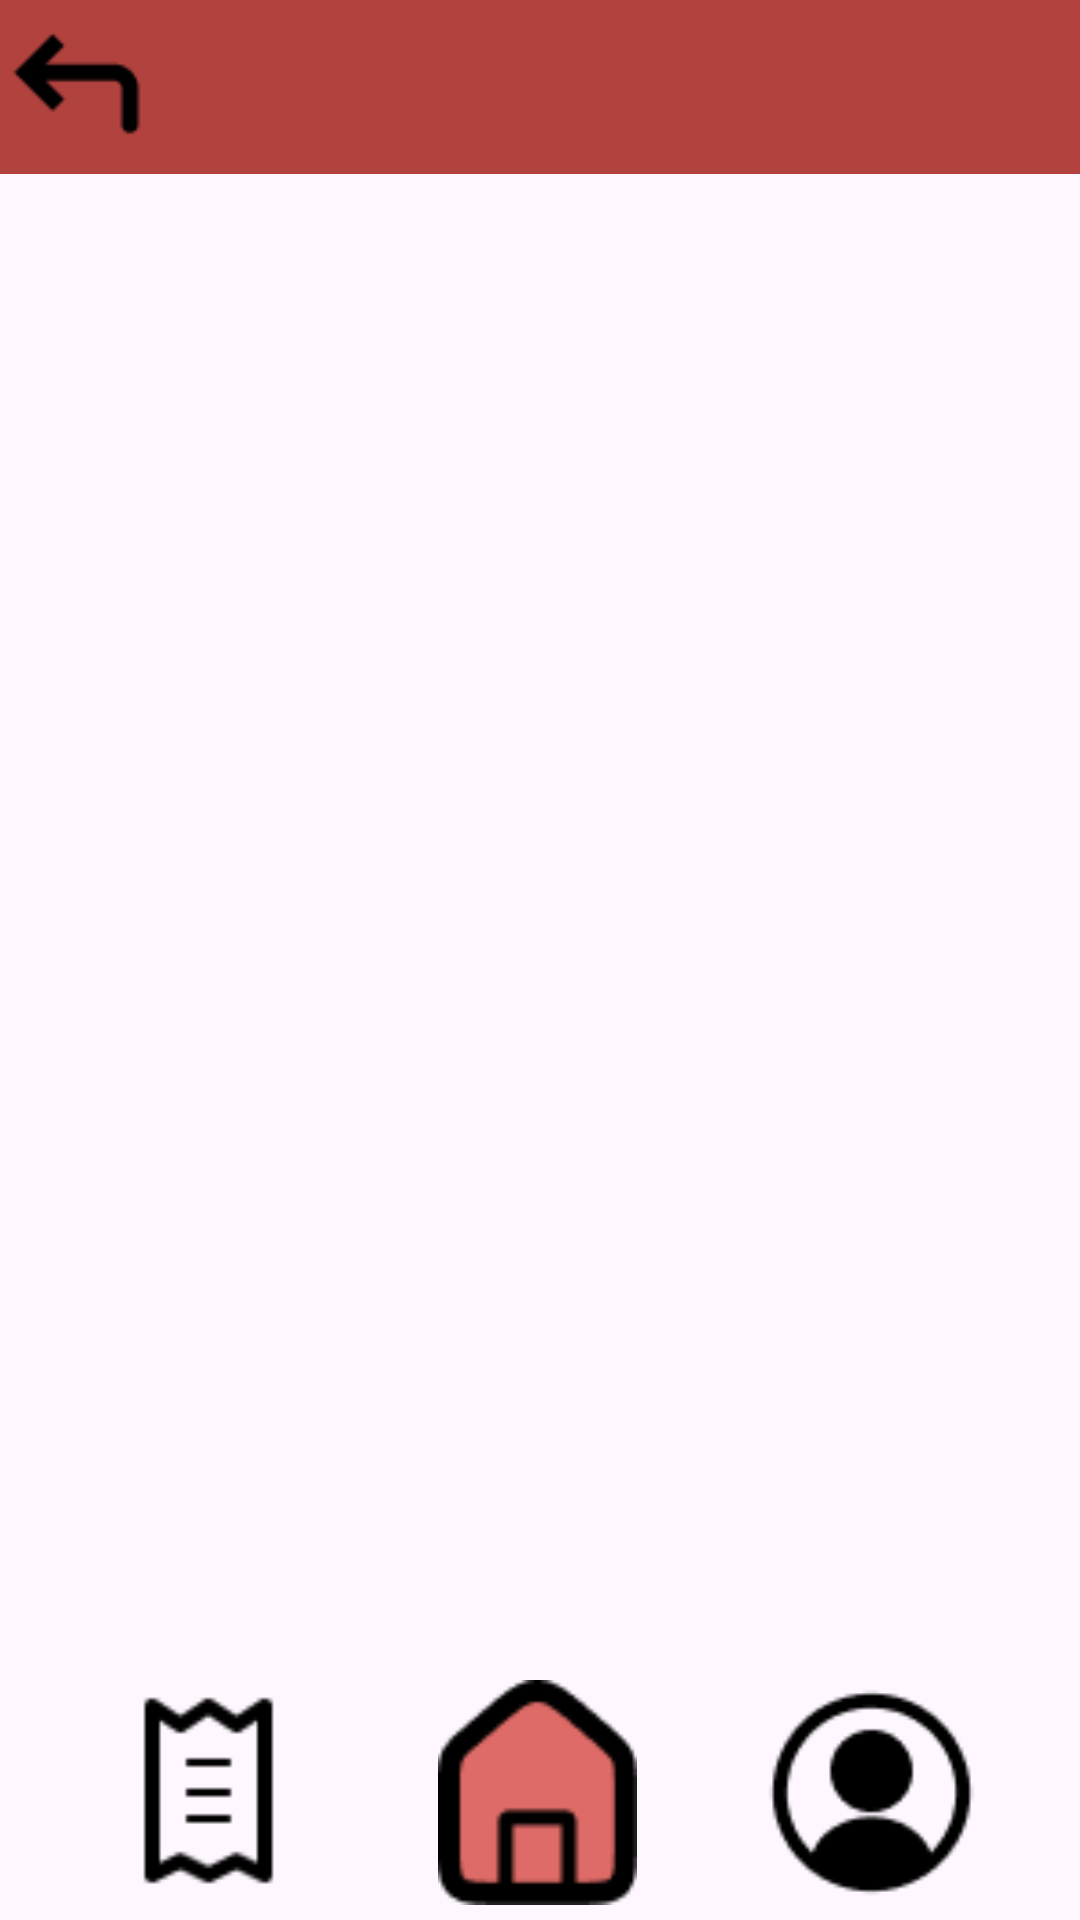

Locate icon controls on the screen. Image size 1080w x 1920h, boxes as rect(x1, y1, x2, y2).
back: rect(13, 34, 140, 134)
home: rect(438, 1680, 637, 1905)
ticket: rect(143, 1697, 274, 1884)
user cicrle duotone line: rect(771, 1692, 972, 1893)
